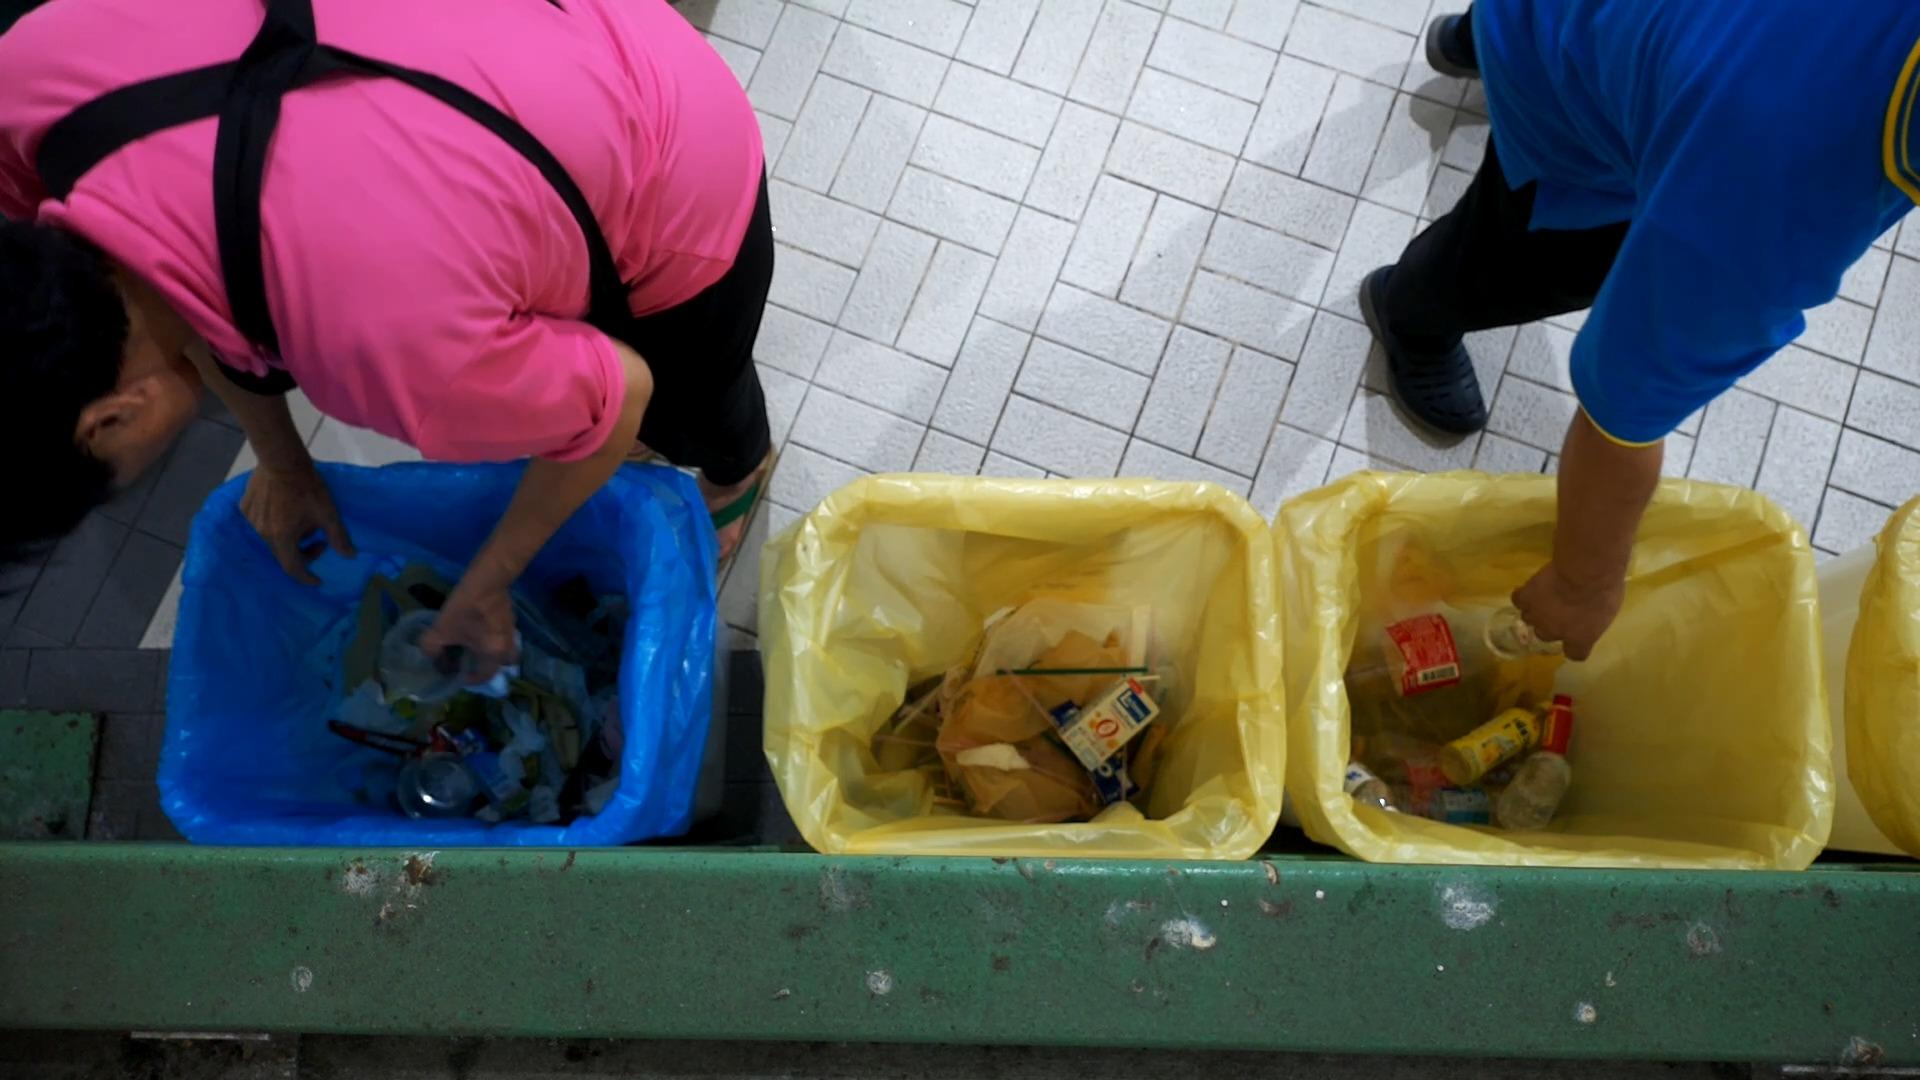food container: (394, 748, 479, 820)
milk carton: (1056, 675, 1164, 774), (450, 724, 534, 823)
plastic bag: (963, 596, 1154, 695)
plastic bottle: (1342, 607, 1538, 709), (1439, 695, 1557, 798), (1493, 750, 1572, 833), (332, 754, 398, 814), (1542, 694, 1576, 754)
plastic cup: (373, 607, 476, 704)
snack packaging: (326, 715, 443, 760)
straw: (890, 666, 965, 736), (1000, 661, 1060, 729), (1030, 764, 1110, 798), (996, 665, 1151, 678), (872, 732, 972, 748), (1133, 674, 1162, 682)
tissue paper: (332, 674, 409, 733), (497, 695, 546, 777), (955, 741, 1031, 773), (579, 778, 624, 818), (526, 781, 563, 824), (473, 804, 505, 822)
